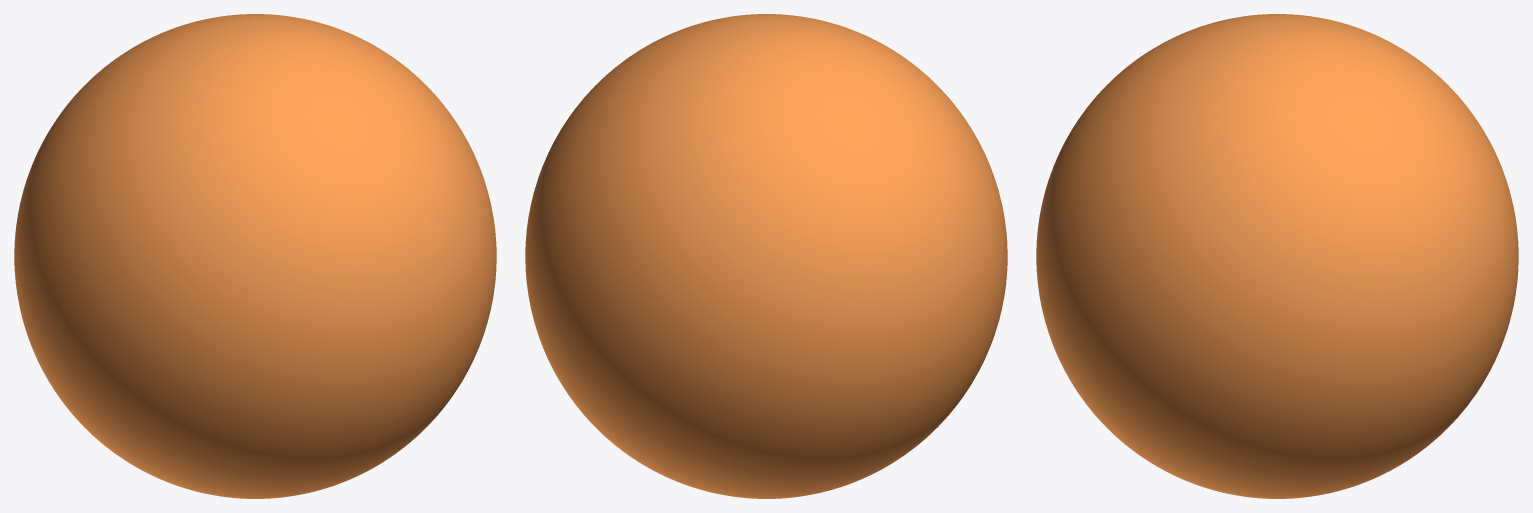
The model's file is planet.glb.
3 renders of one model, left to right at view 1: azimuth 30°, elevation 25°; view 2: azimuth 150°, elevation 25°; view 3: azimuth 270°, elevation 25°, orthographic.
Parts seen in each view (by area): view 1: Sphere.001; view 2: Sphere.001; view 3: Sphere.001.
Part boxes in pixels (left/top/right/bottom): Sphere.001: left=14, top=14, right=496, bottom=498; Sphere.001: left=525, top=14, right=1007, bottom=498; Sphere.001: left=1036, top=14, right=1518, bottom=498.
Size of the model in its own units: 5.41 by 5.47 by 5.41.
